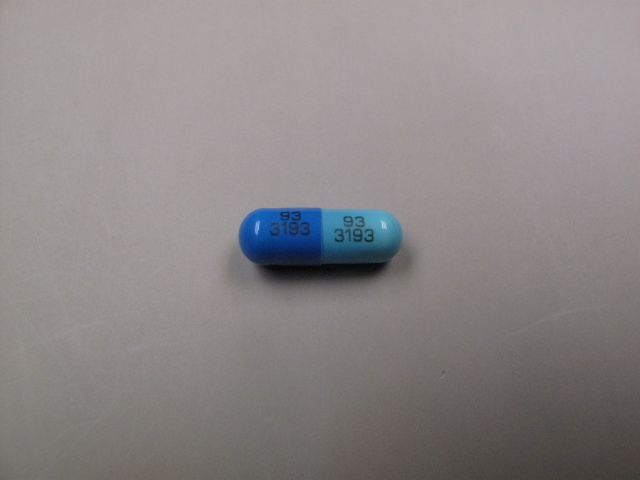capsule: (240, 208, 402, 267)
